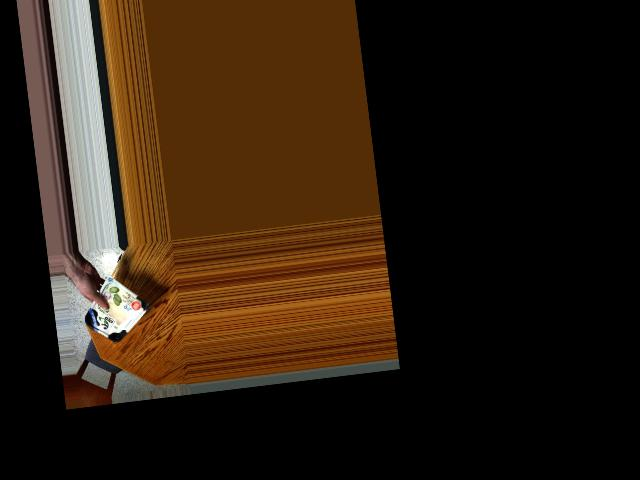cheese: (85, 292, 146, 337)
